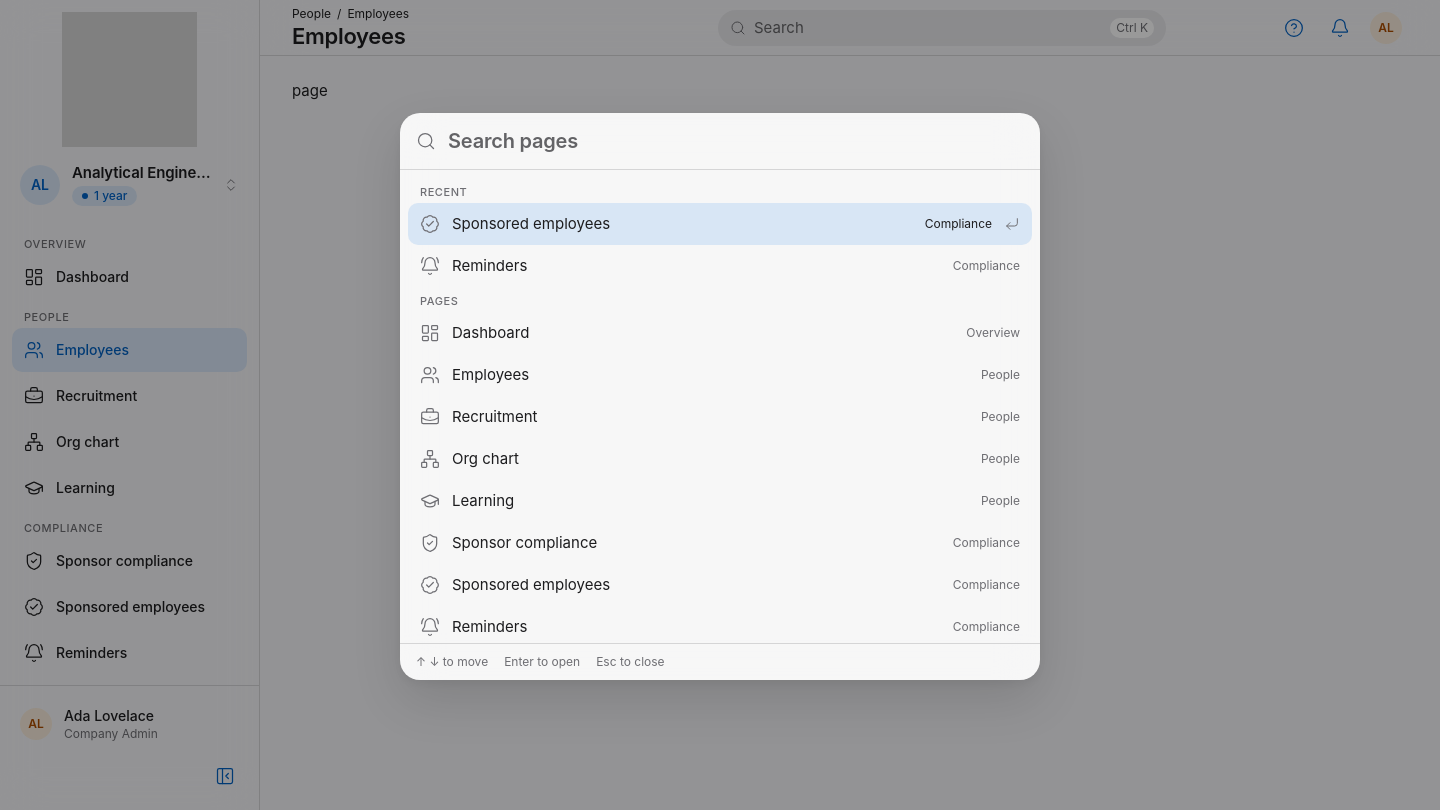
the toolbar's controls › search and help announce what they want to open; the shortcut provider answers
Earlier steps of the test are not shown.
Expected: the dialog named "Search" is shown, top-left (400, 113), bottom-right (1040, 680)
Press Escape
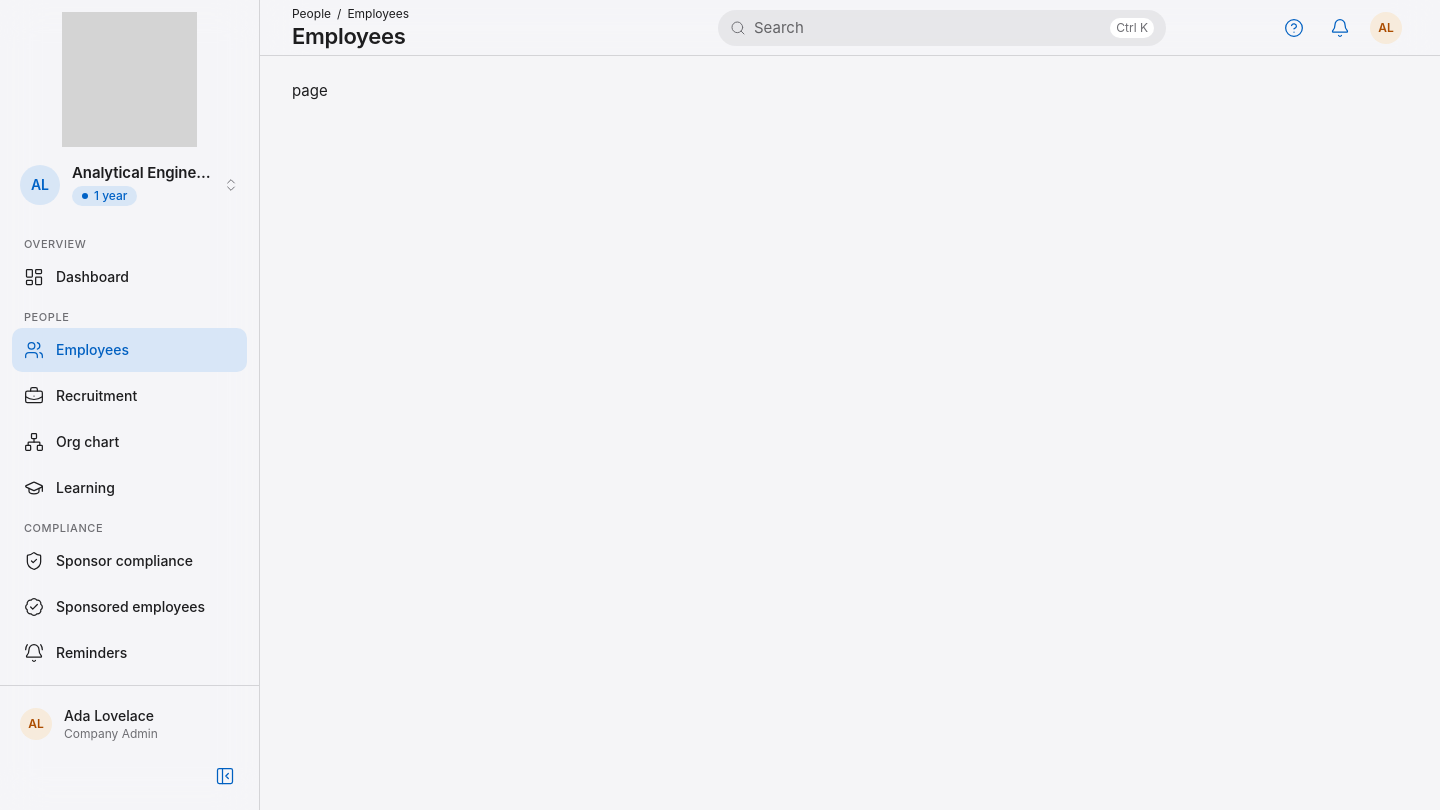
Click the button named "Help and keyboard shortcuts" at (1294, 28), box top-left (1272, 6), bottom-right (1316, 50)
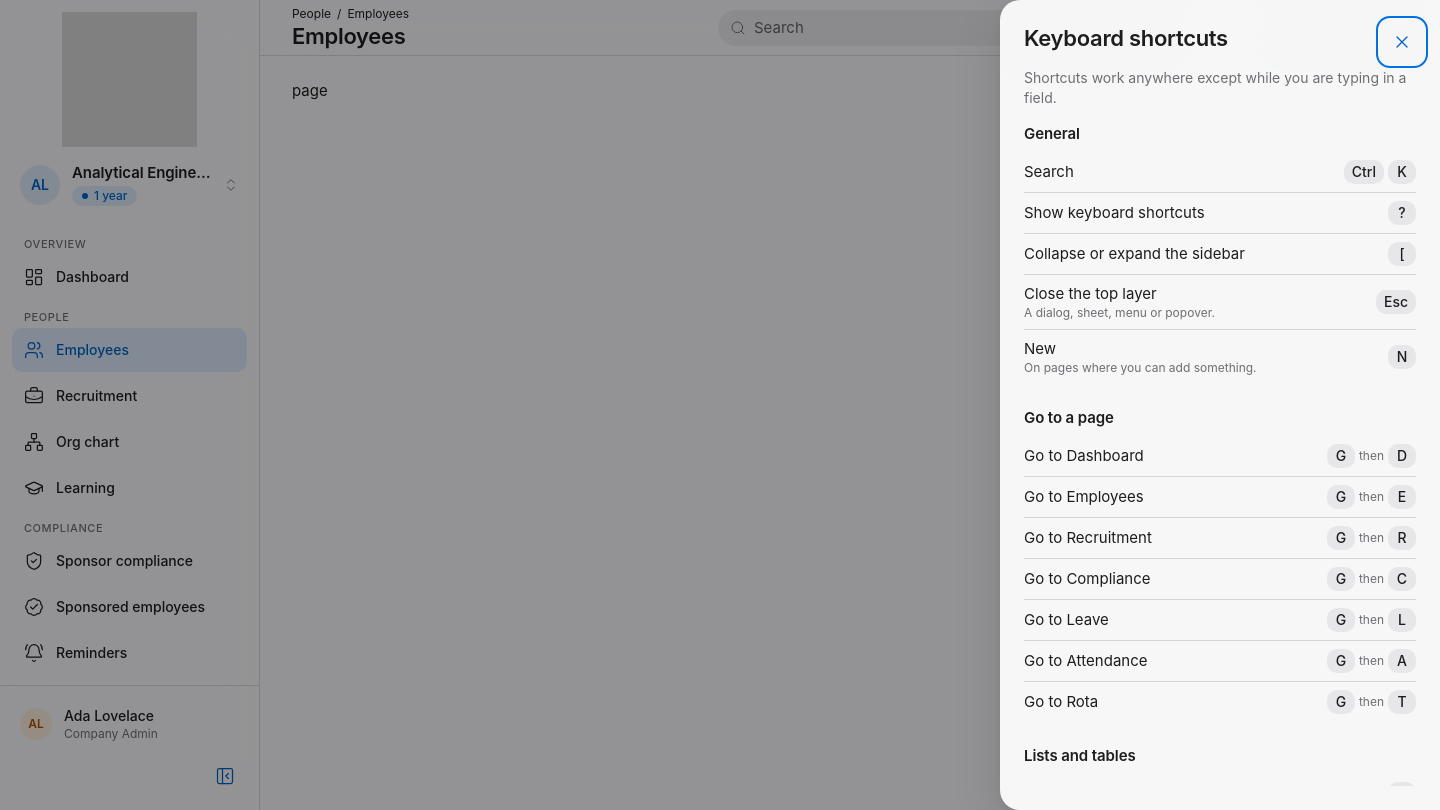
Expected: the dialog "Keyboard shortcuts" is shown, top-left (1000, 0), bottom-right (1439, 809)
